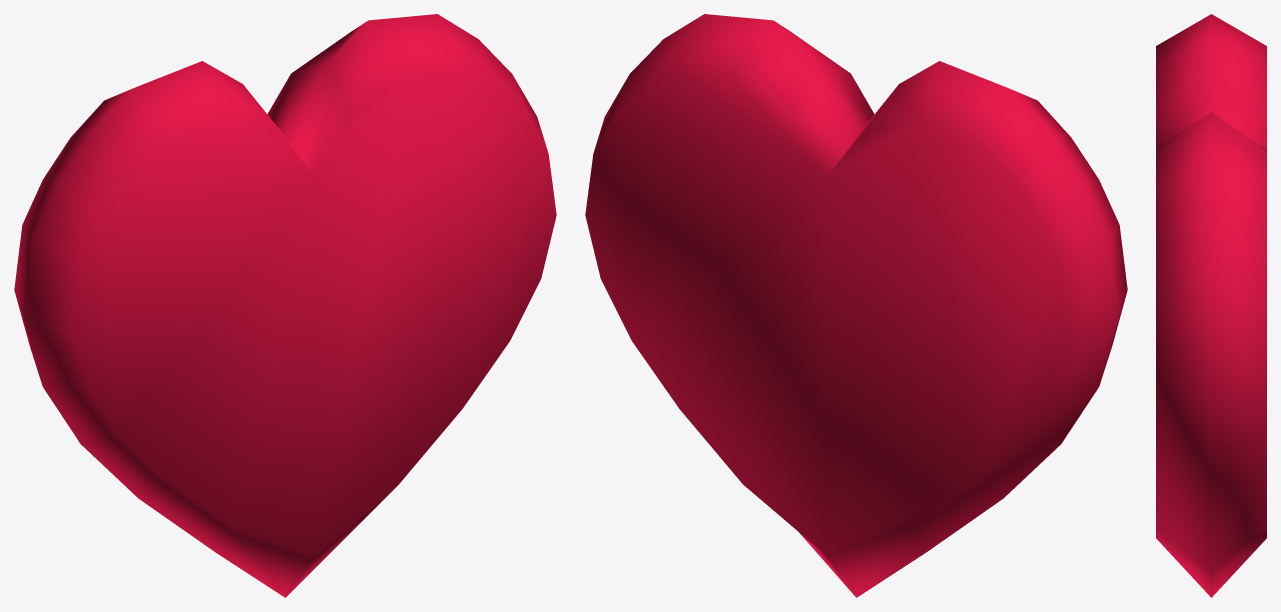
File: heart_bullet.glb
3 renders of one model, left to right at view 1: azimuth 30°, elevation 25°; view 2: azimuth 150°, elevation 25°; view 3: azimuth 270°, elevation 25°, orthographic. The views are drawn at different scales.
Visible parts, largest first — view 1: Heart; view 2: Heart; view 3: Heart.
Boxes of the visible parts, bbox=[...] form: Heart: bbox=[14, 14, 556, 597]; Heart: bbox=[585, 14, 1127, 597]; Heart: bbox=[1156, 14, 1266, 597].
Size of the model in its own units: 2.35 by 2.4 by 0.4595.
